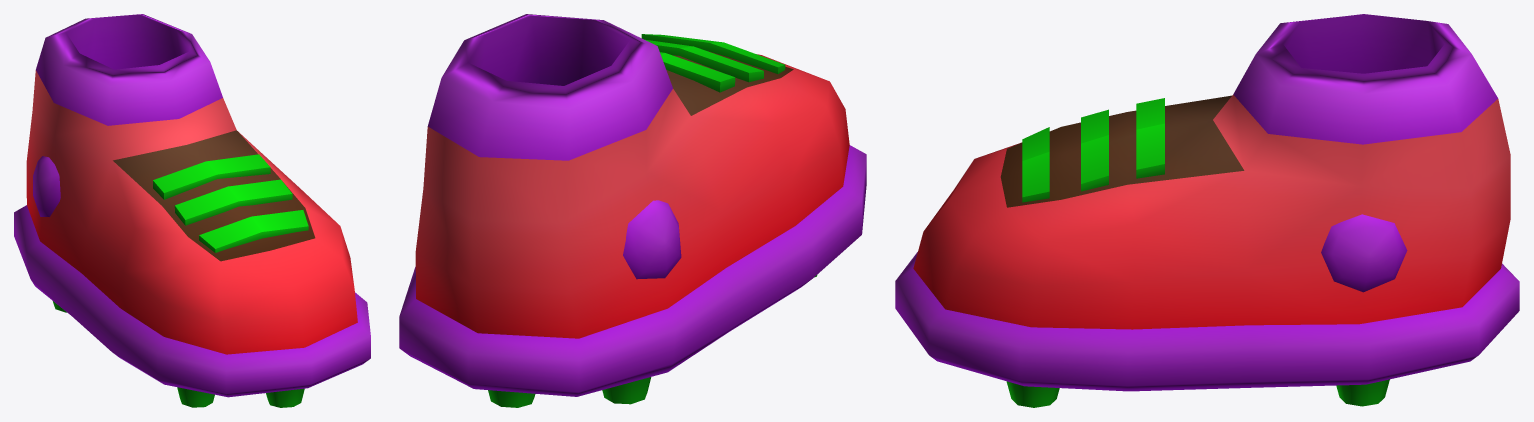
The model's file is soccer_boot.glb.
3 views of the same model, side by side, from view 1: azimuth 30°, elevation 25°; view 2: azimuth 150°, elevation 25°; view 3: azimuth 270°, elevation 25° (orthographic). The views are drawn at different scales.
Parts seen in each view (by area): view 1: soccer_boot3; view 2: soccer_boot3; view 3: soccer_boot3.
Part boxes in pixels (left/top/right/bottom): soccer_boot3: left=14, top=14, right=370, bottom=407; soccer_boot3: left=399, top=14, right=866, bottom=407; soccer_boot3: left=895, top=14, right=1519, bottom=407.
Bounding box in the file's own units: 0.1441 × 0.1569 × 0.28.
1 material, 1 textured.
